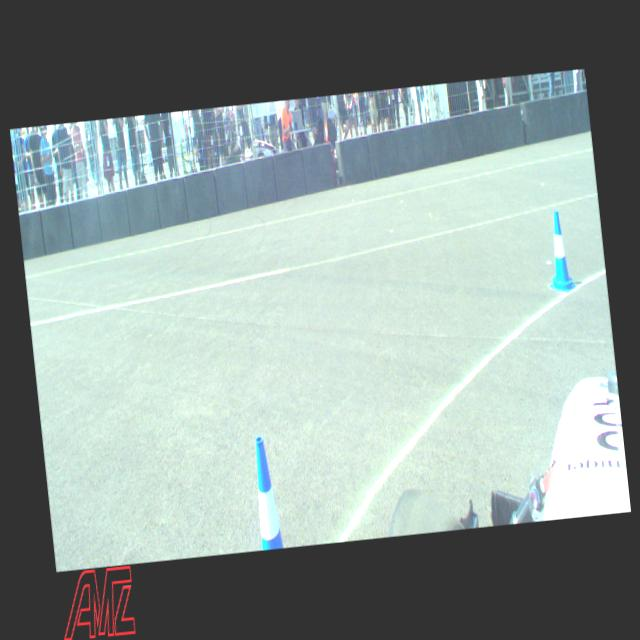blue_cone: (250, 434, 283, 550), (542, 208, 576, 292)
